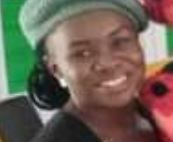without_facemask: (71, 66, 156, 108)
